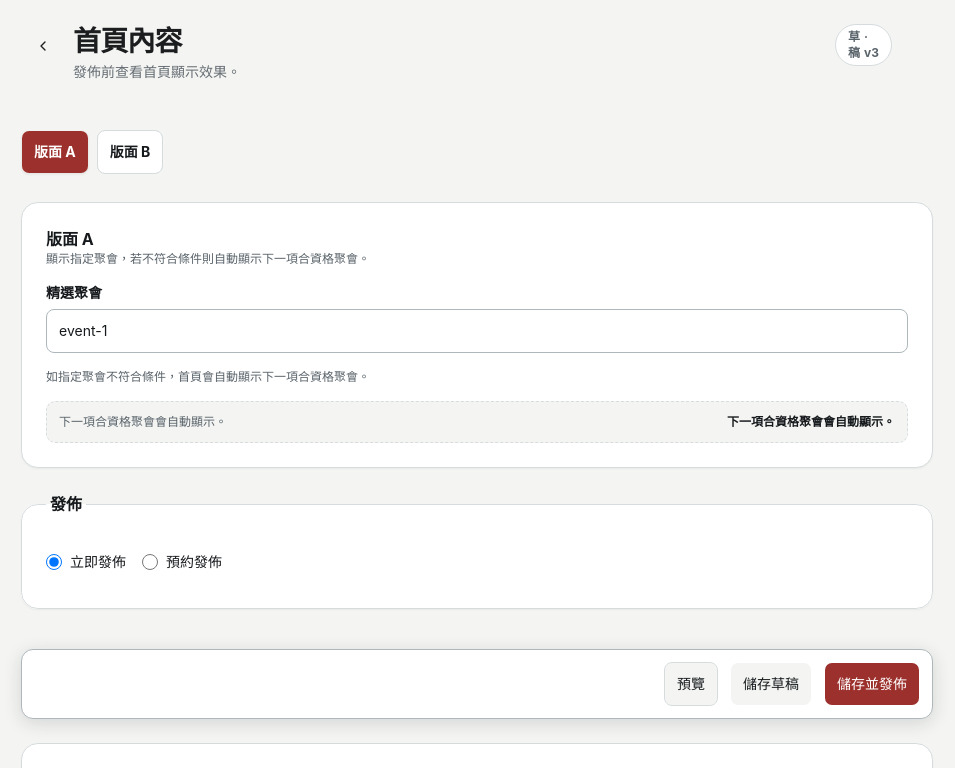
Test case: HomeContentEditor › preserves unpersisted draft form state across recoverable non-conflict save failure and allows retry
expect the heading "首頁內容" is shown: met, box [73,24,182,58]
expect the field with id "home-cms-featured-event" is shown: met, box [46,309,908,353]
Click the button "版面 B" at (130, 152), box [97,130,163,174]
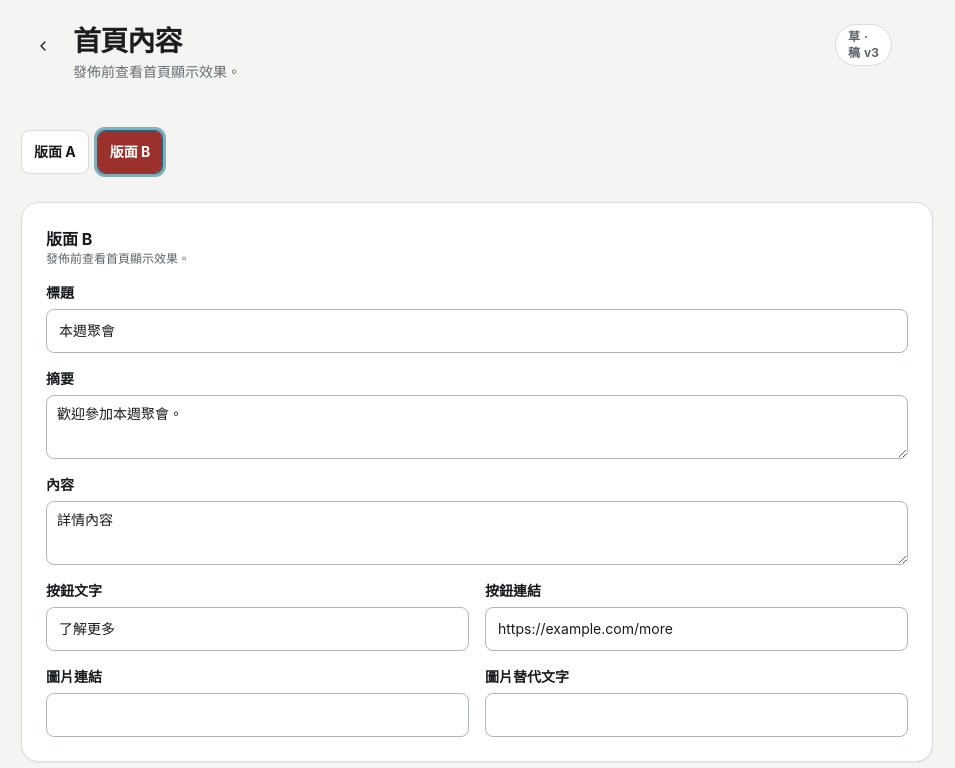
Replace the text in the field with id "home-cms-featured-event" with "未儲存的特別草稿" at (477, 331), box [46,309,908,353]
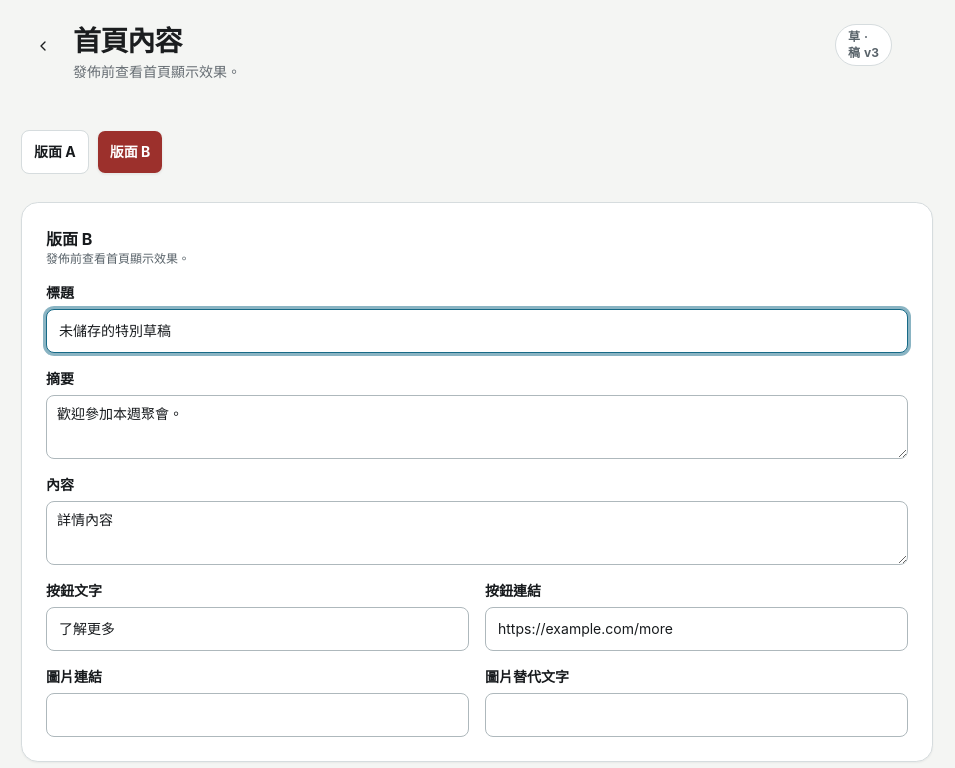
Replace the text in the text box labelled "摘要" with "這段草稿簡介在失敗後必須保留。" at (477, 427), box [46,395,908,459]
(page scrolled)
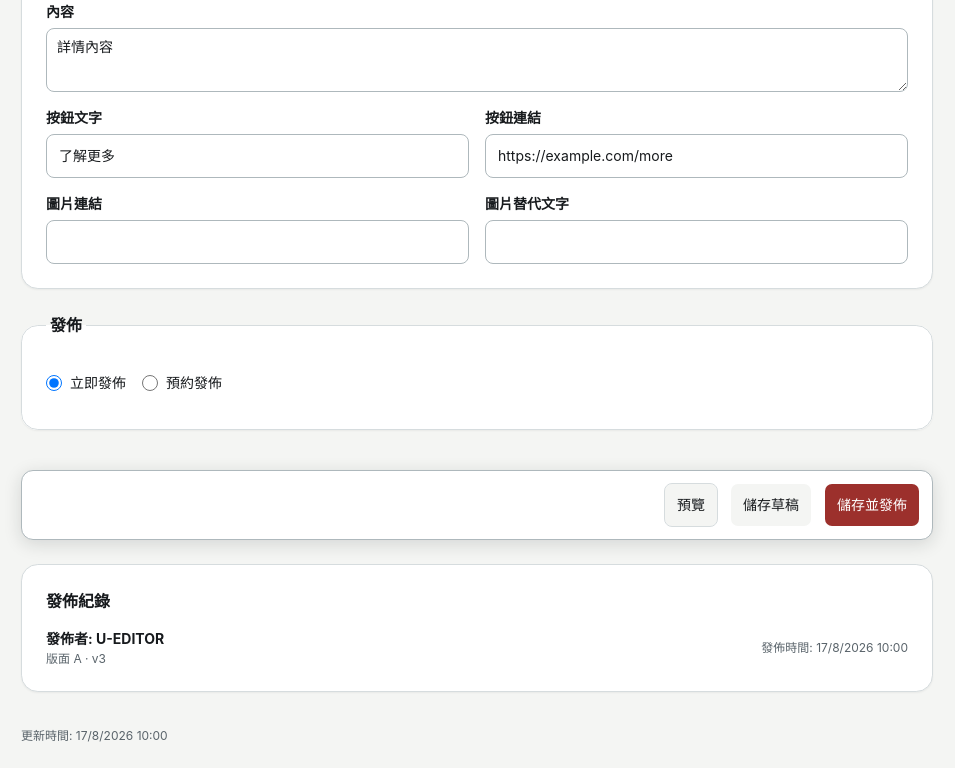
Click the button "儲存草稿" at (771, 505), box [730,483,812,527]
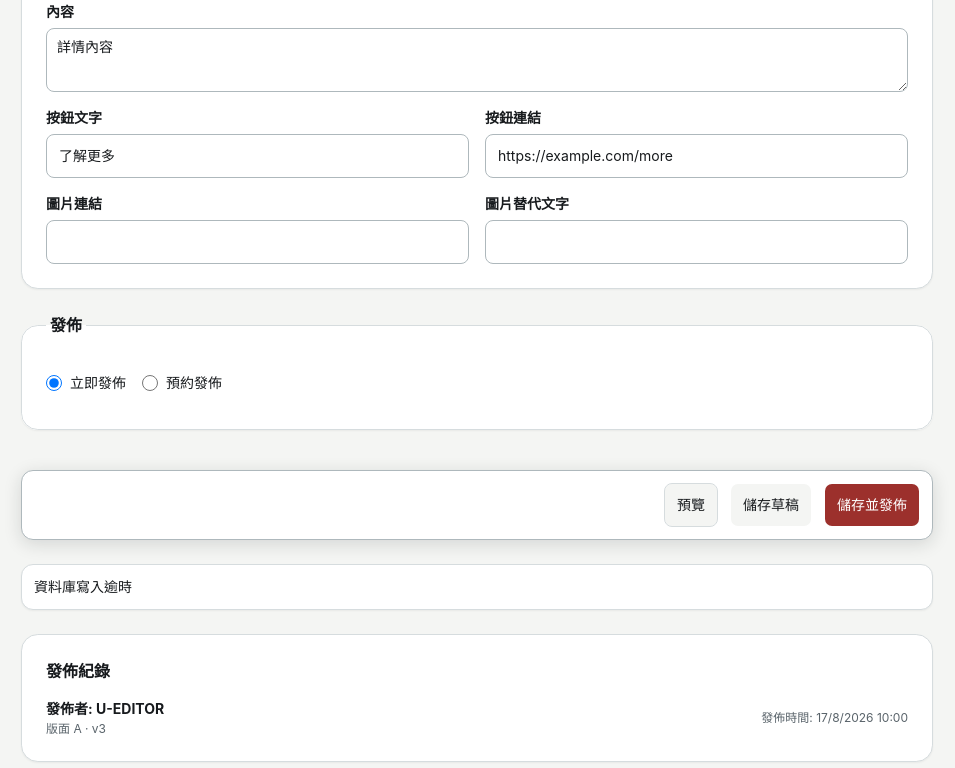
expect the text "資料庫寫入逾時" is shown: met, box [21,564,933,610]
Click the button "儲存草稿" at (771, 505), box [730,483,812,527]
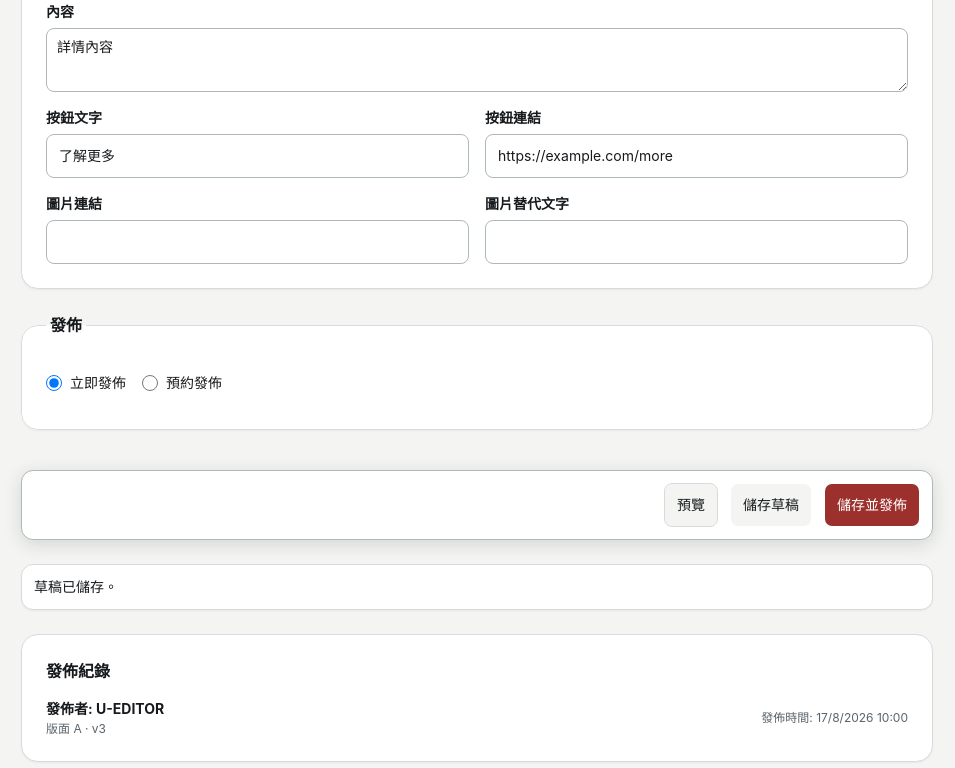
expect the text "草稿已儲存。" is shown: met, box [21,564,933,610]
